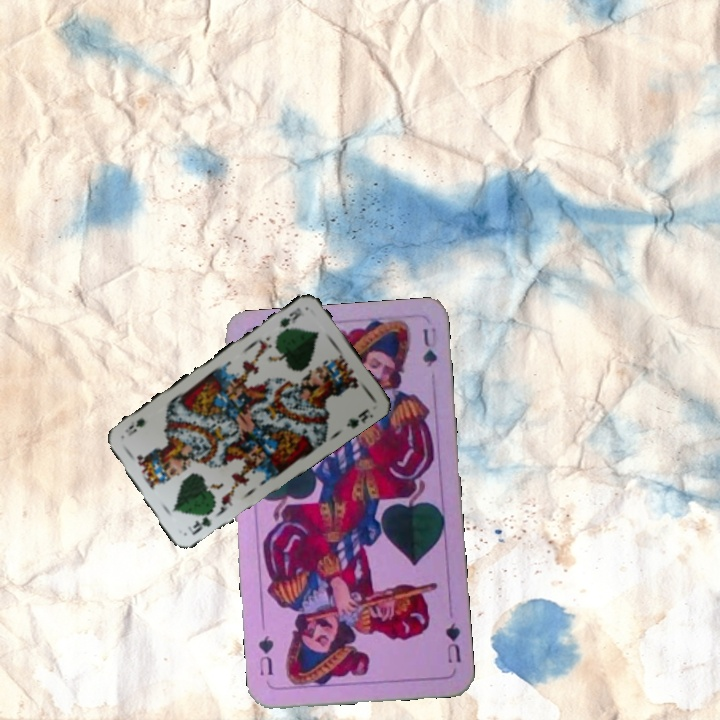GK: (275, 303, 304, 336), (188, 506, 217, 538)
GU: (441, 619, 463, 666)
